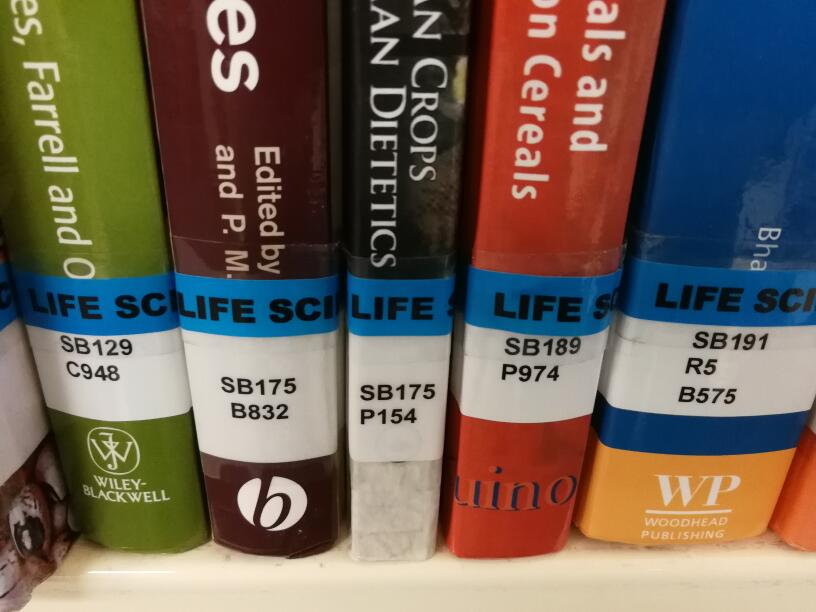booklabel: (674, 327, 774, 407), (57, 328, 136, 383), (217, 373, 301, 423), (500, 334, 581, 385), (358, 382, 436, 426)
